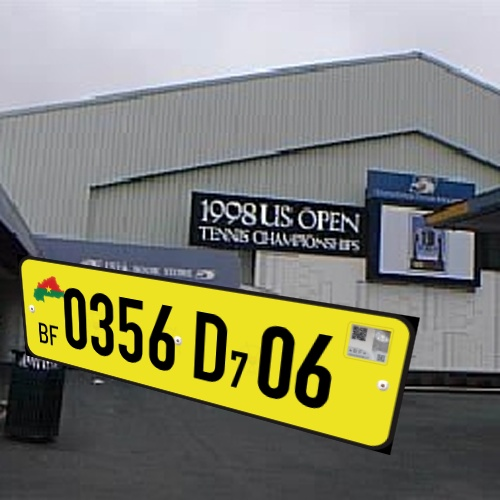plate: (11, 240, 430, 470)
